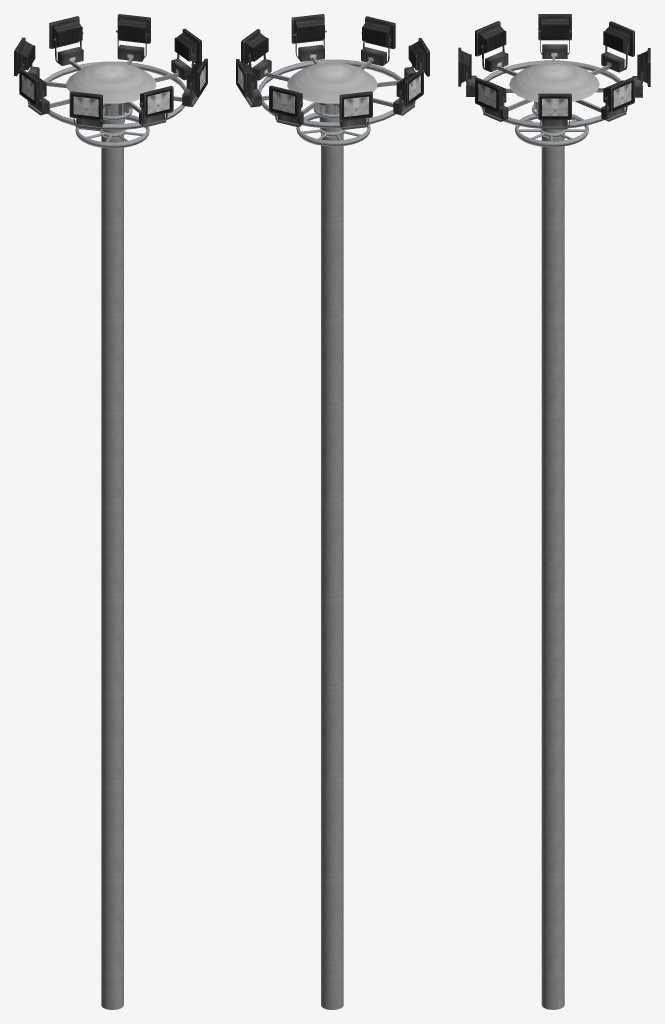
The model's file is commercial_lights.glb.
3 views of the same model, side by side, from view 1: azimuth 30°, elevation 25°; view 2: azimuth 150°, elevation 25°; view 3: azimuth 270°, elevation 25° (orthographic).
Visible parts, largest first — view 1: skp; view 2: skp; view 3: skp.
Part boxes in pixels (x1,y1,x2,y2): skp: [14, 14, 207, 1009]; skp: [236, 14, 429, 1009]; skp: [458, 14, 650, 1009].
Bounding box in the file's own units: 1.55 × 8.47 × 1.56.
12 materials, 12 textured.
